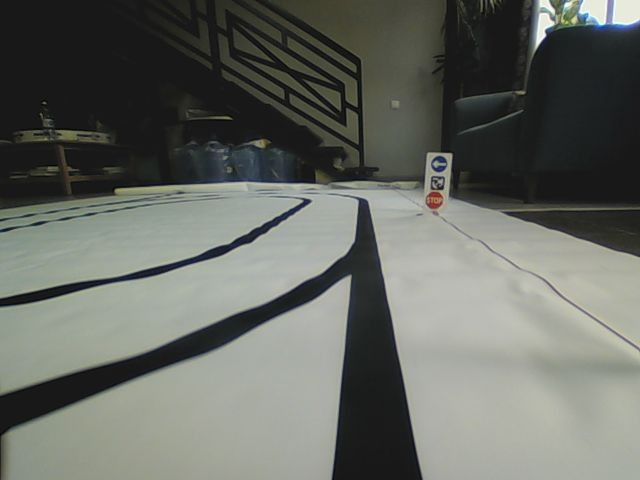Stop: (426, 191, 443, 208)
